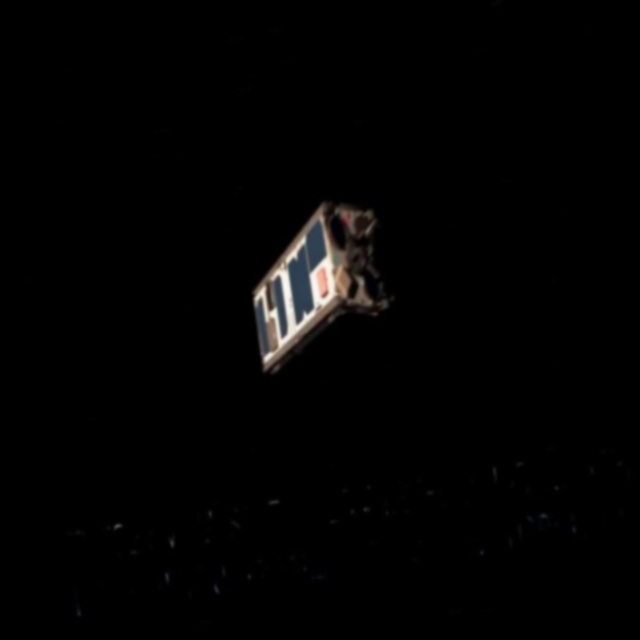medium_debris: (205, 127, 461, 458)
